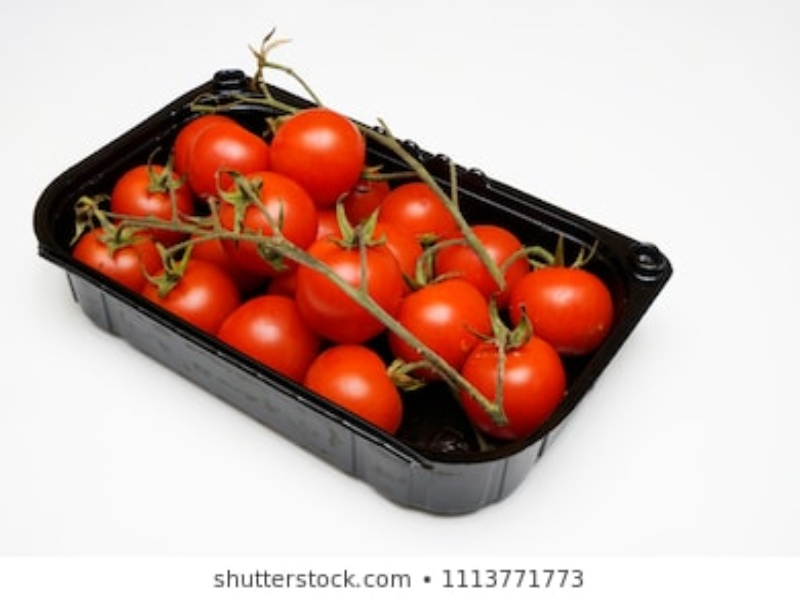plastic-container: (34, 72, 679, 519)
